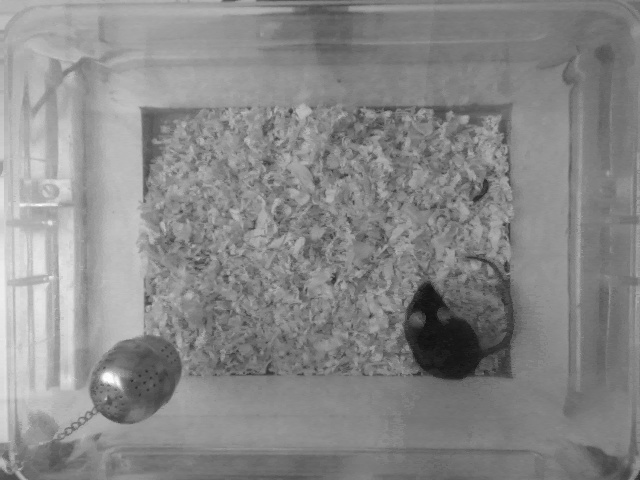mice: (399, 253, 517, 380)
